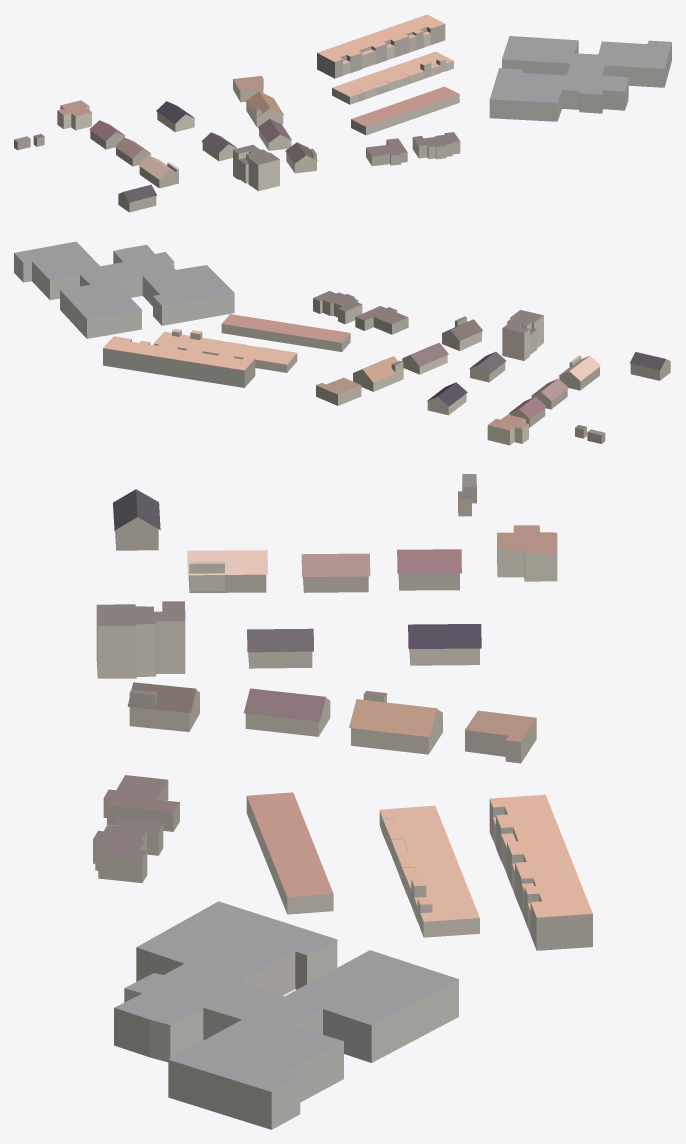
3 views of the same model, one above another, from view 1: azimuth 30°, elevation 25°; view 2: azimuth 150°, elevation 25°; view 3: azimuth 270°, elevation 25° (orthographic). The views are drawn at different scales.
Visible parts, largest first — view 1: tuile; view 2: tuile; view 3: tuile.
Part boxes in pixels (<box>): tuile: <box>14,14,671,212</box>; tuile: <box>14,241,670,445</box>; tuile: <box>93,474,592,1129</box>.
Bounding box in the file's own units: 279 × 17.35 × 99.6.
